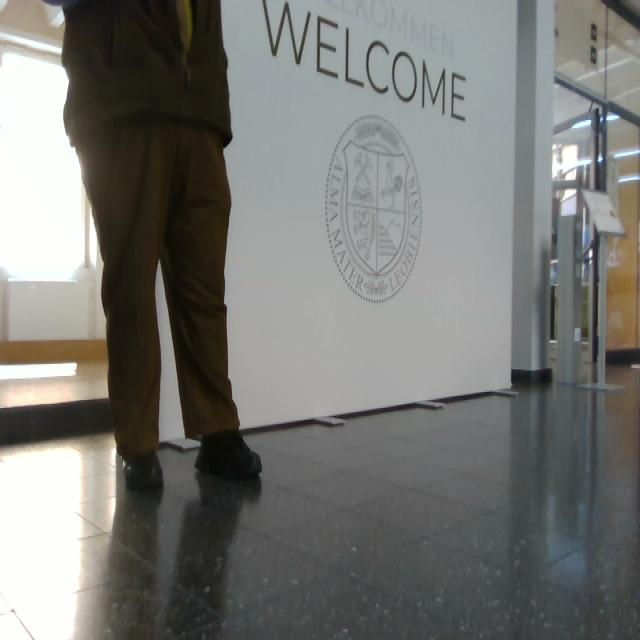door: (153, 1, 521, 441)
light bulb: (325, 114, 423, 304), (1, 361, 78, 381), (40, 1, 83, 8)
person: (42, 1, 263, 492)
tiled floor: (2, 361, 639, 638)
